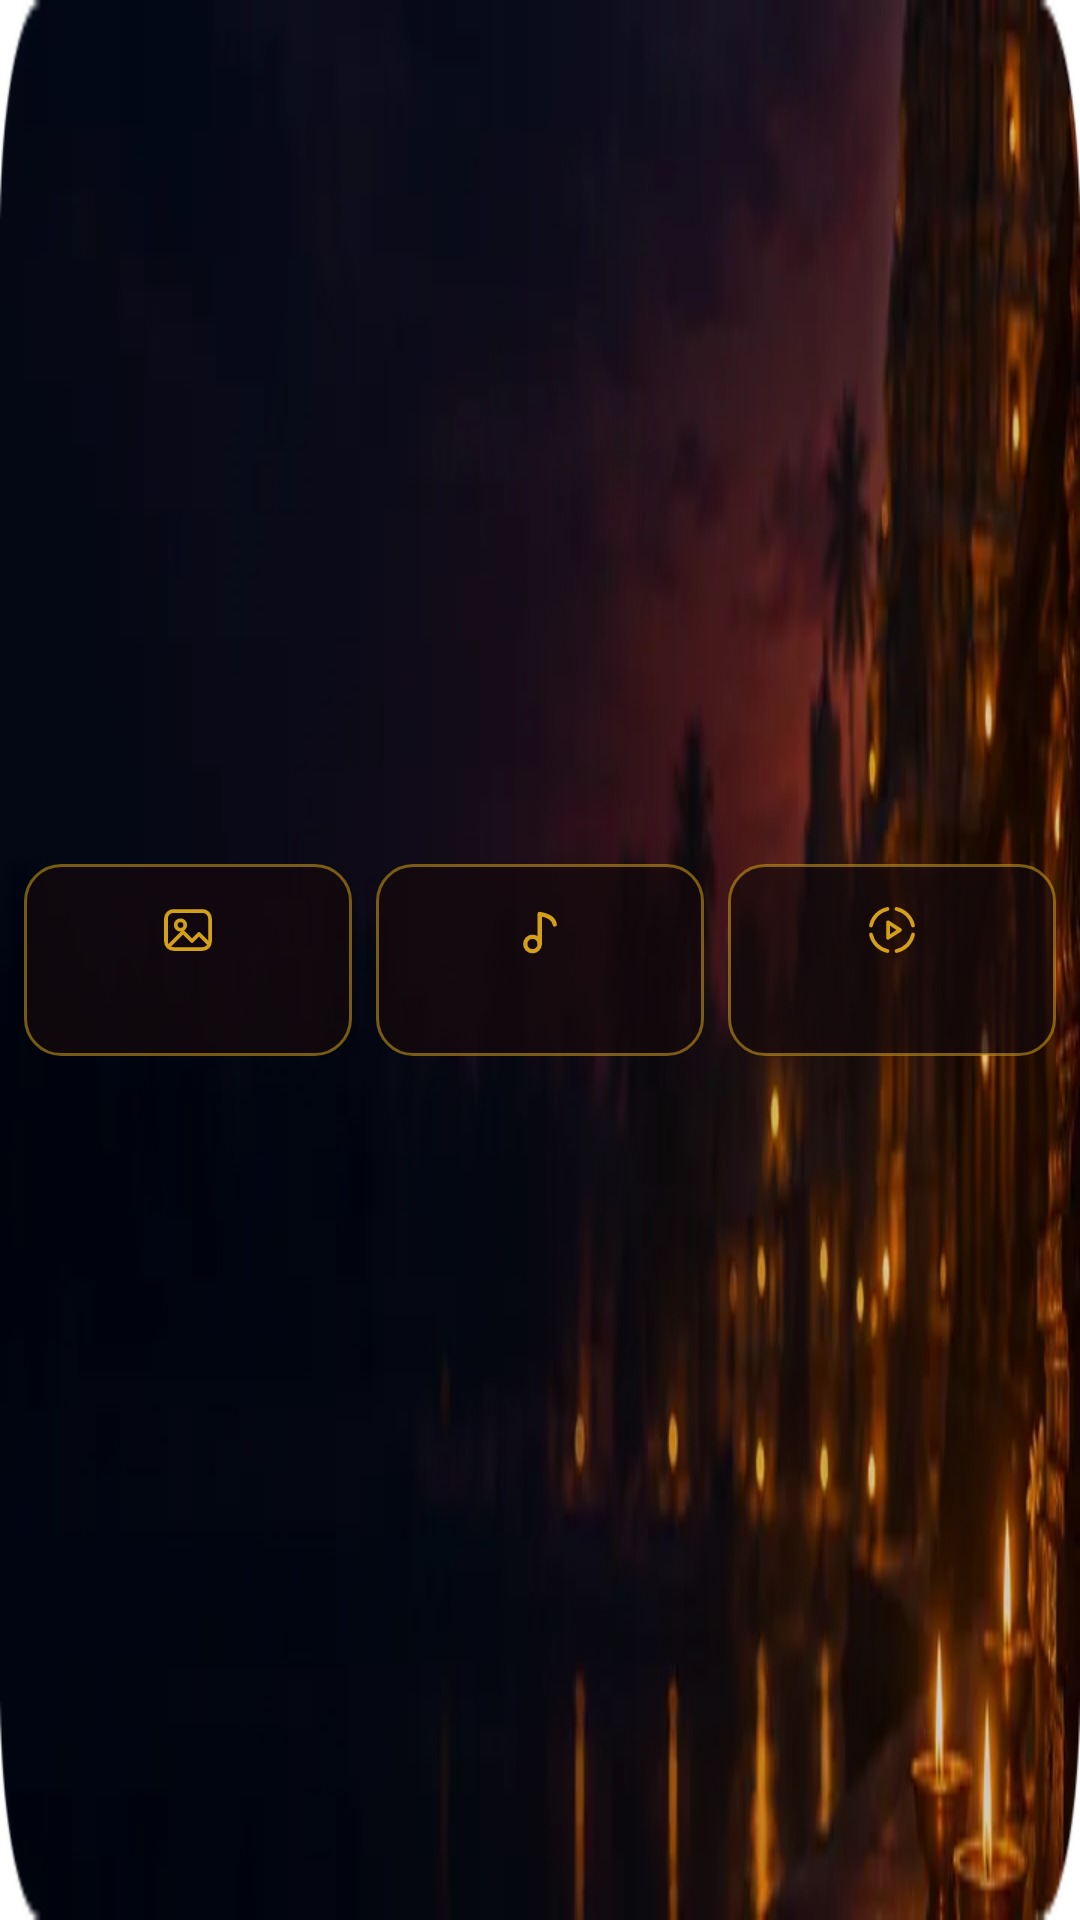

Where icons sit on this 1080px×1920px app screen, as {"x1": x1, "y1": y1, "x2": x2, "y2": y2}:
quick ringtones: {"x1": 523, "y1": 911, "x2": 557, "y2": 954}
quick status: {"x1": 869, "y1": 907, "x2": 915, "y2": 953}
quick wallpapers: {"x1": 164, "y1": 909, "x2": 212, "y2": 951}
